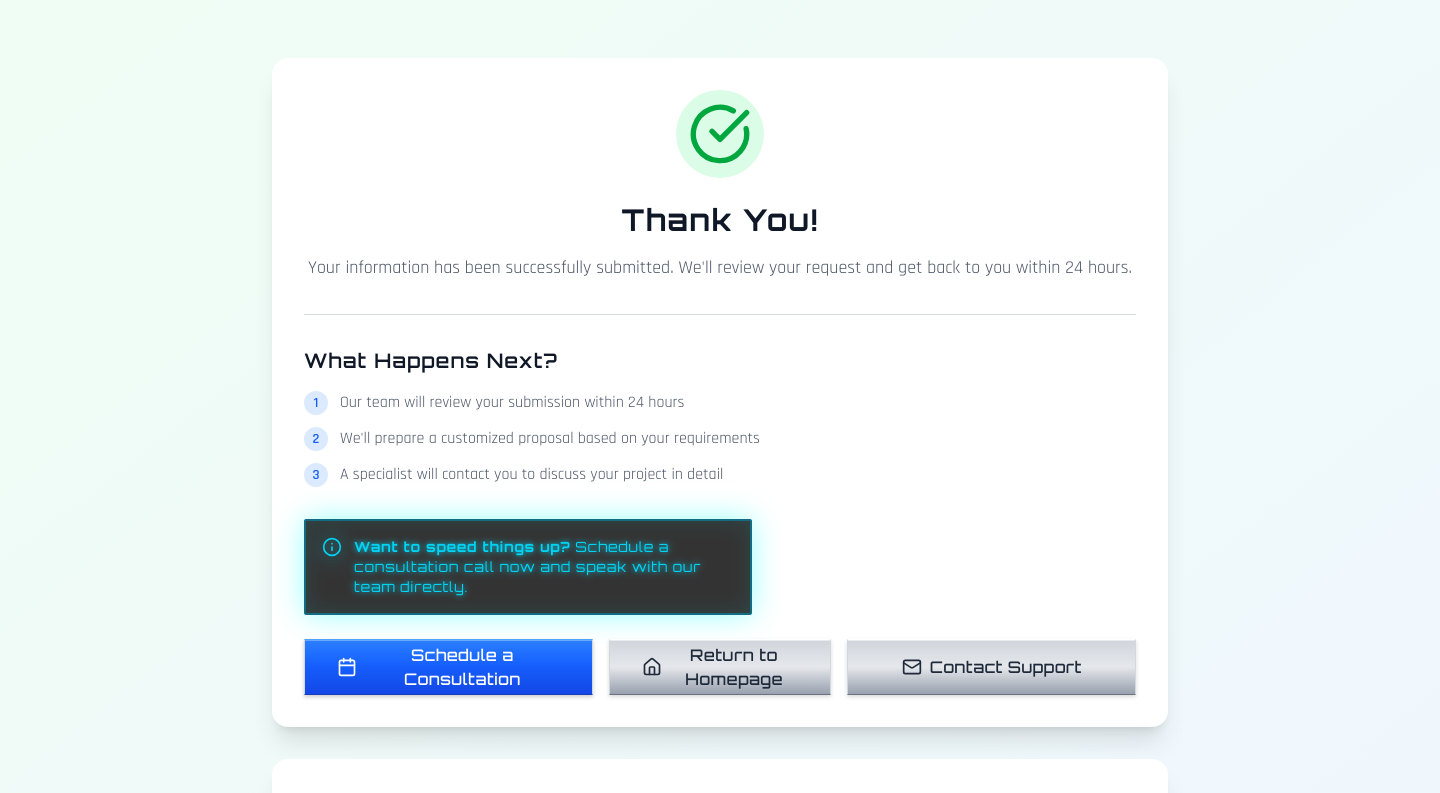
Scenario: ThankYouPage › hides scheduler when Maybe Later clicked
Click the button "Schedule a Consultation" at [448, 667], box [304,639,593,695]
(page scrolled)
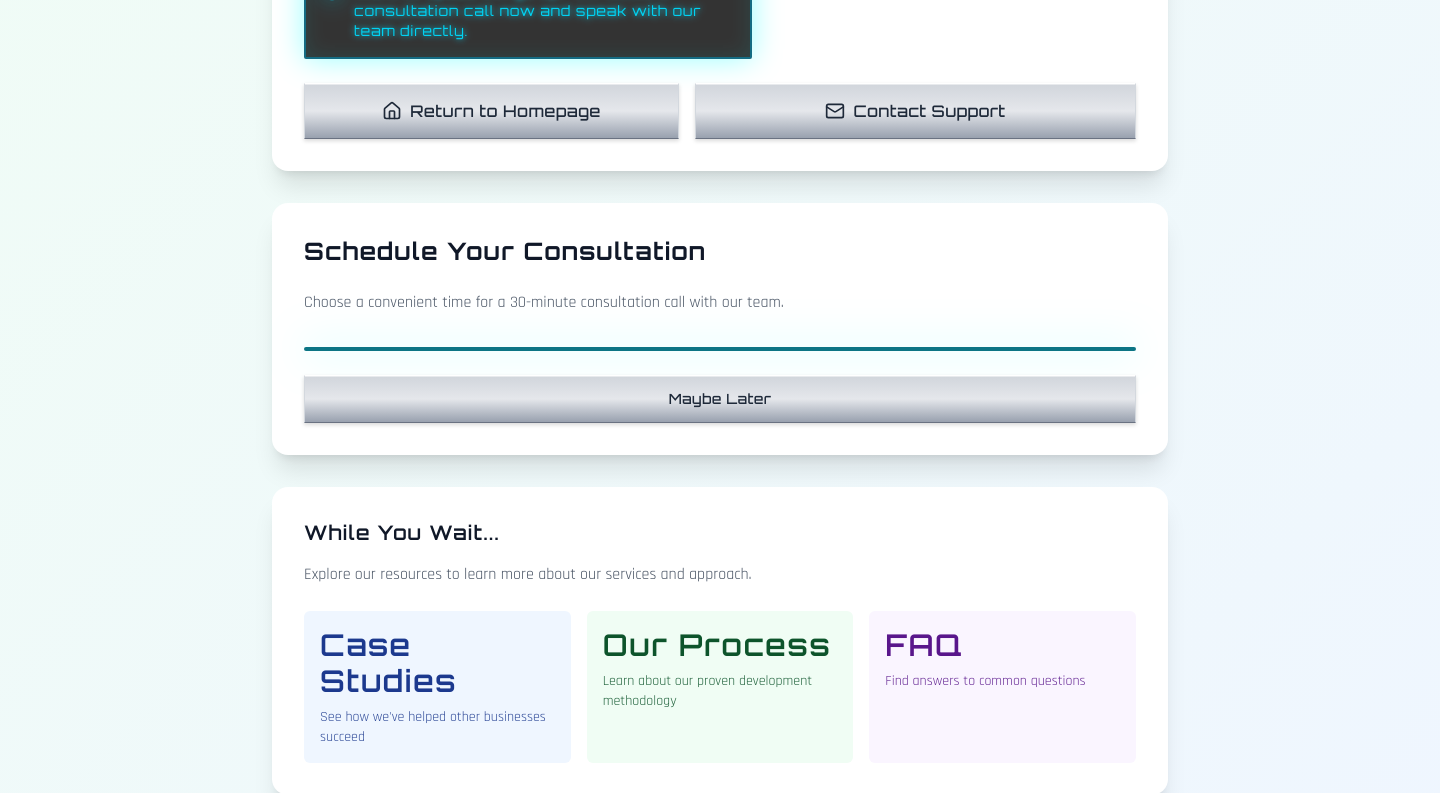
Click the button "Maybe Later" at [720, 399], box [304,375,1136,423]
(page scrolled)
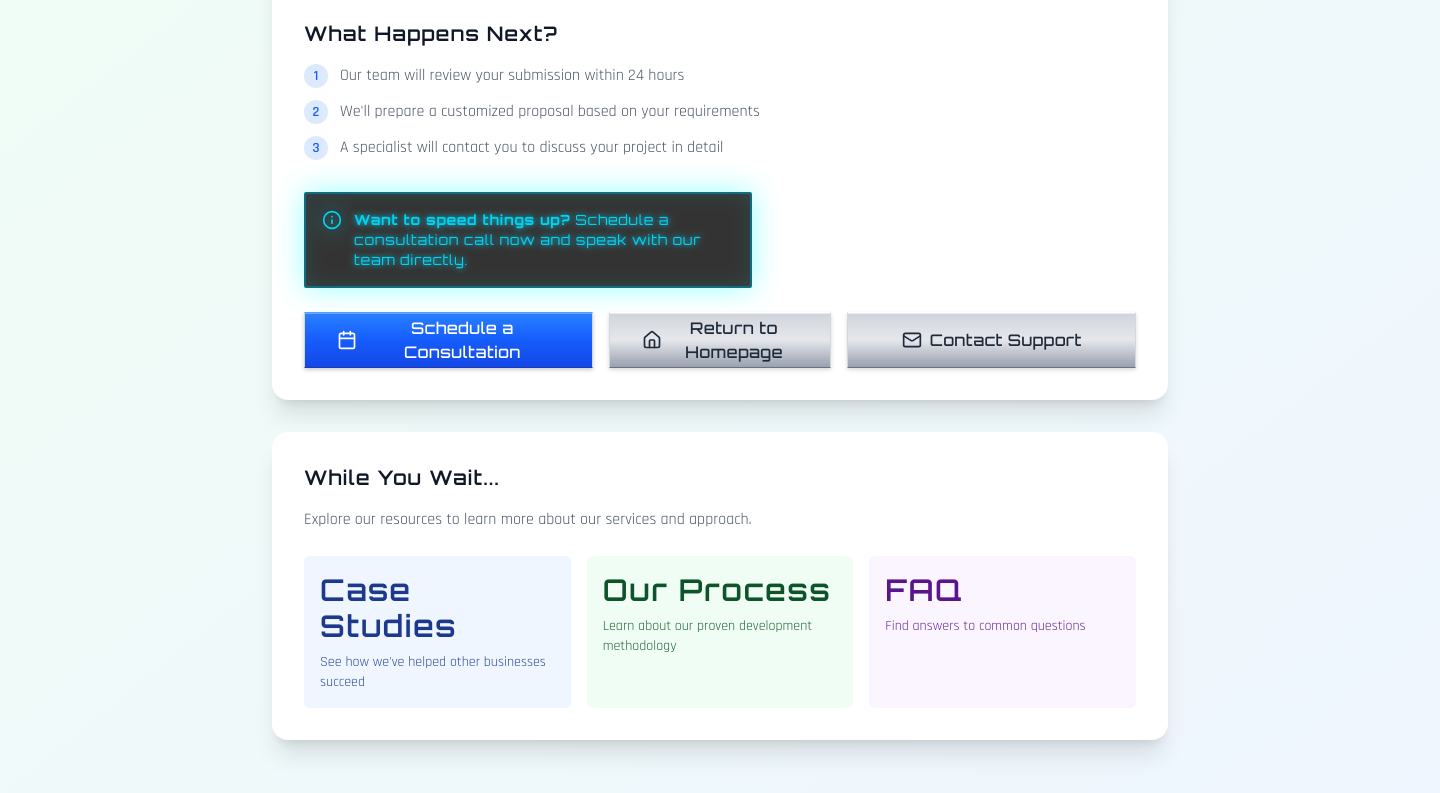
Expected: the heading "Schedule Your Consultation" is gone
